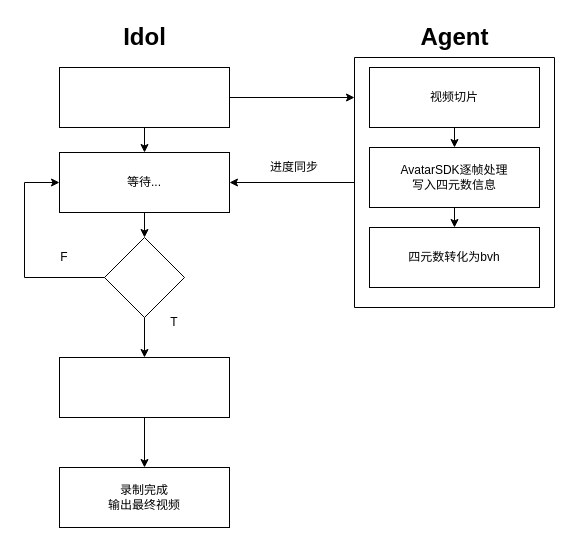
The diagram is 572 pixels wide and 545 high, and some of its shapes have lost their labels. The shapes that lost their labels are listed below. From the top down, each one's centre as x and y in pixels, then its label:
(x=144, y=97): 准备输入数据 (视频、vmd、保存路径 )
(x=144, y=277): 完成？
(x=144, y=387): 播放bvh动作 开始视频录制
